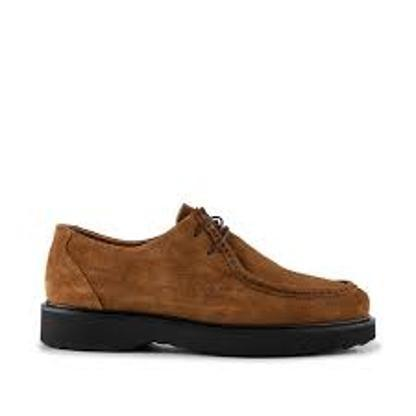not trash: (36, 202, 382, 361)
